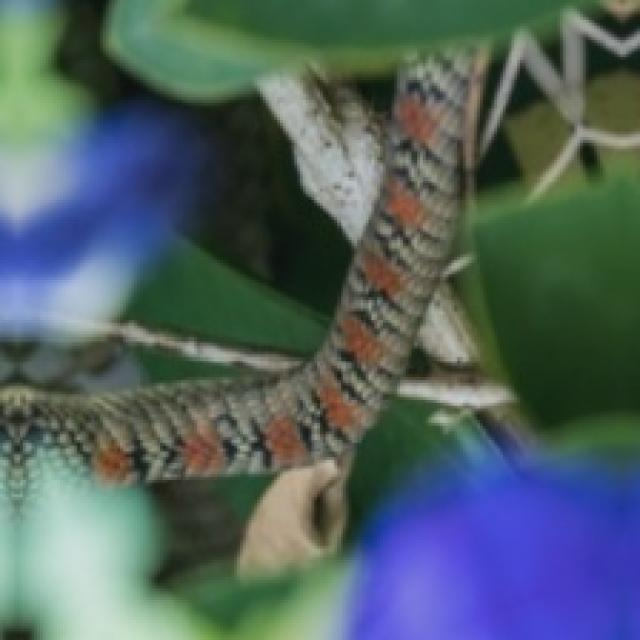paradise tree snake: (0, 49, 483, 571), (0, 51, 480, 491)
